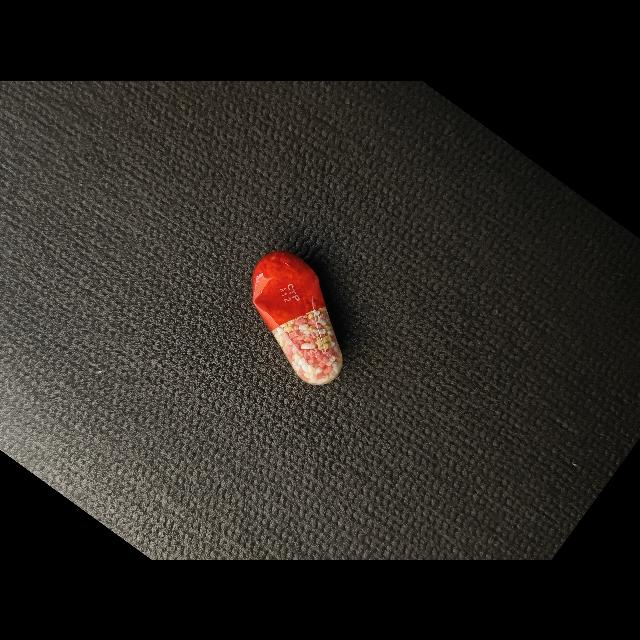Defective Capsule: (252, 250, 343, 385)
